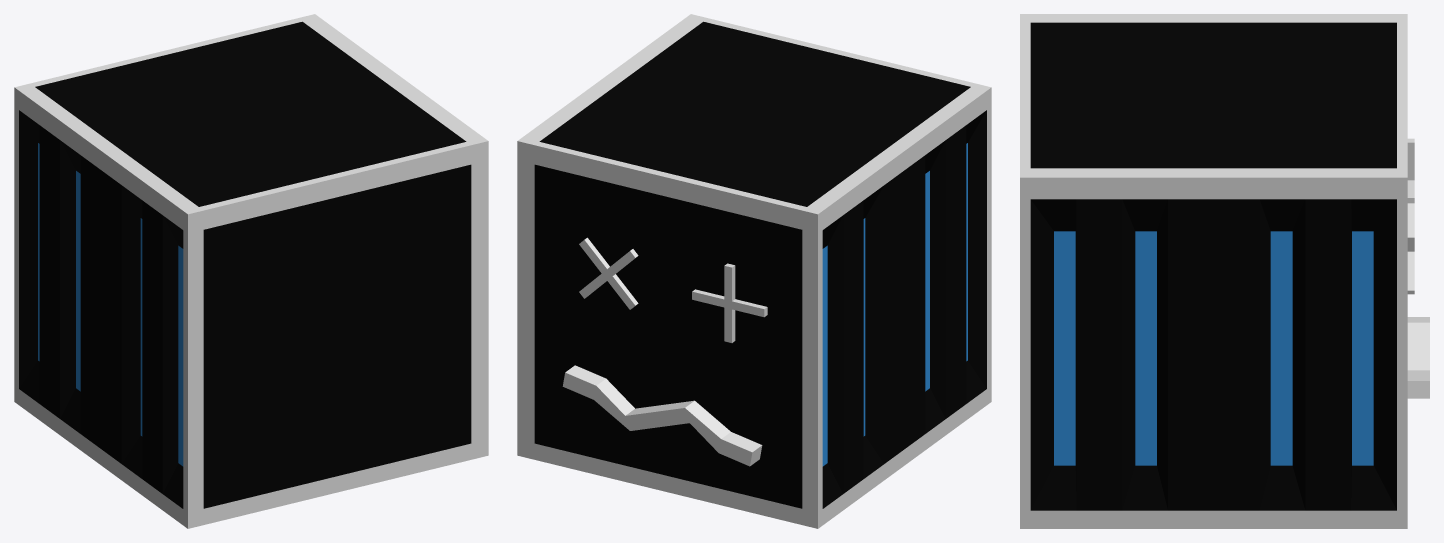
File: pixelated chaser.fbx
3 renders of one model, left to right at view 1: azimuth 30°, elevation 25°; view 2: azimuth 150°, elevation 25°; view 3: azimuth 270°, elevation 25°, orthographic. The views are drawn at different scales.
Parts seen in each view (by area): view 1: Cube.003; view 2: Cube.003, Cube.006, Cube.007, Cube.008; view 3: Cube.003, Cube.006, Cube.008, Cube.007.
Boxes of the visible parts, bbox=[...] form: Cube.003: bbox=[14, 14, 488, 528]; Cube.003: bbox=[517, 14, 991, 528]; Cube.006: bbox=[562, 365, 762, 466]; Cube.007: bbox=[692, 263, 767, 342]; Cube.008: bbox=[579, 237, 638, 309]; Cube.003: bbox=[1020, 14, 1407, 528]; Cube.006: bbox=[1407, 317, 1429, 398]; Cube.008: bbox=[1407, 203, 1414, 294]; Cube.007: bbox=[1407, 138, 1414, 203].
Bounding box in the file's own units: 200 × 200 × 211.
